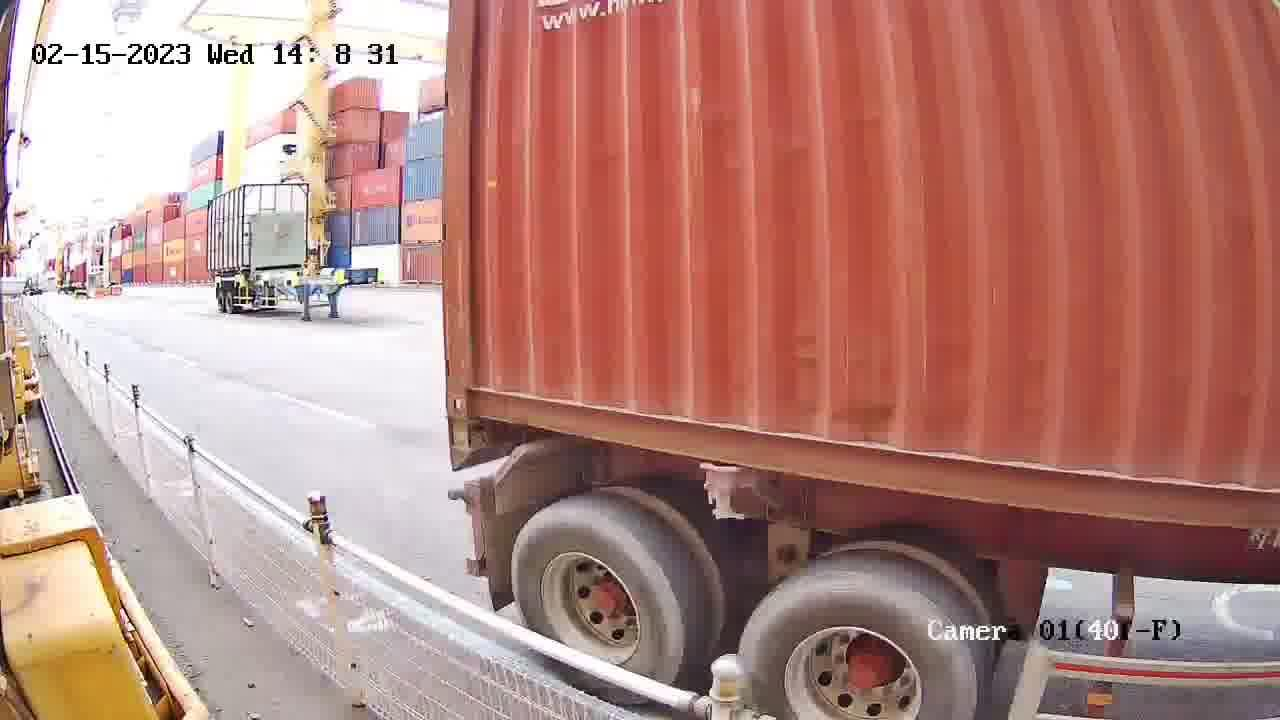Cone: (449, 421, 480, 465)
Hole_L: (446, 349, 503, 420)
Tire: (739, 575, 976, 719), (512, 502, 691, 685)
